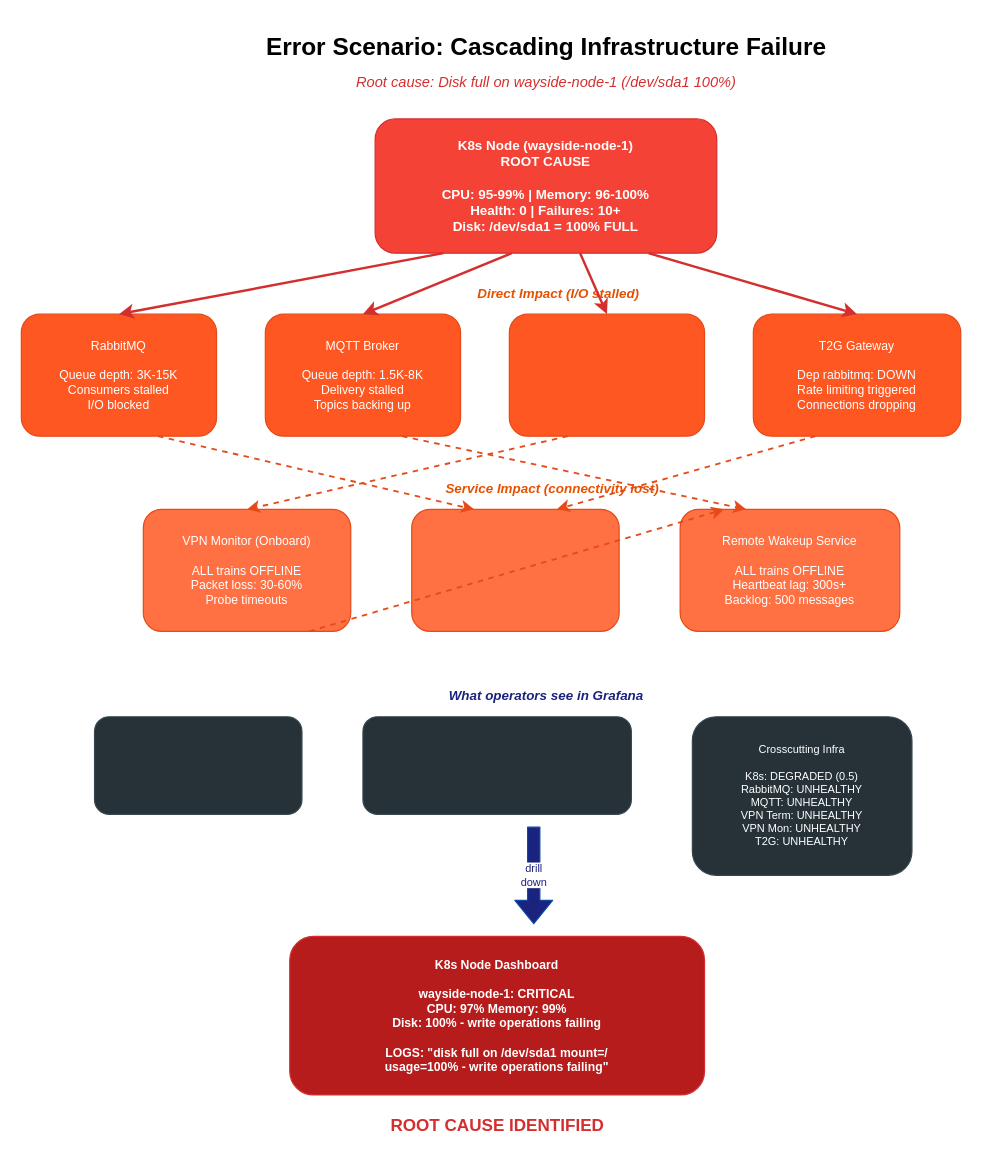
Image size: 982x1164. Some labels were removed from this diagram. The centre of each missing label's shape, as x and y in pixels:
Feature Dashboard API: UNHEALTHY Service: UNHEALTHY: the point at 197,765
Fleet Dashboard Remote Wakeup: UNHEALTHY (0) Infrastructure: UNHEALTHY (0): the point at 496,765
Remote Wakeup API Dep rabbitmq: DOWN Latency: 3-15s Request backlog: 100: the point at 515,569
VPN Terminator Health: 0 Packet loss: 15-40% Tunnels dropping: the point at 606,374
